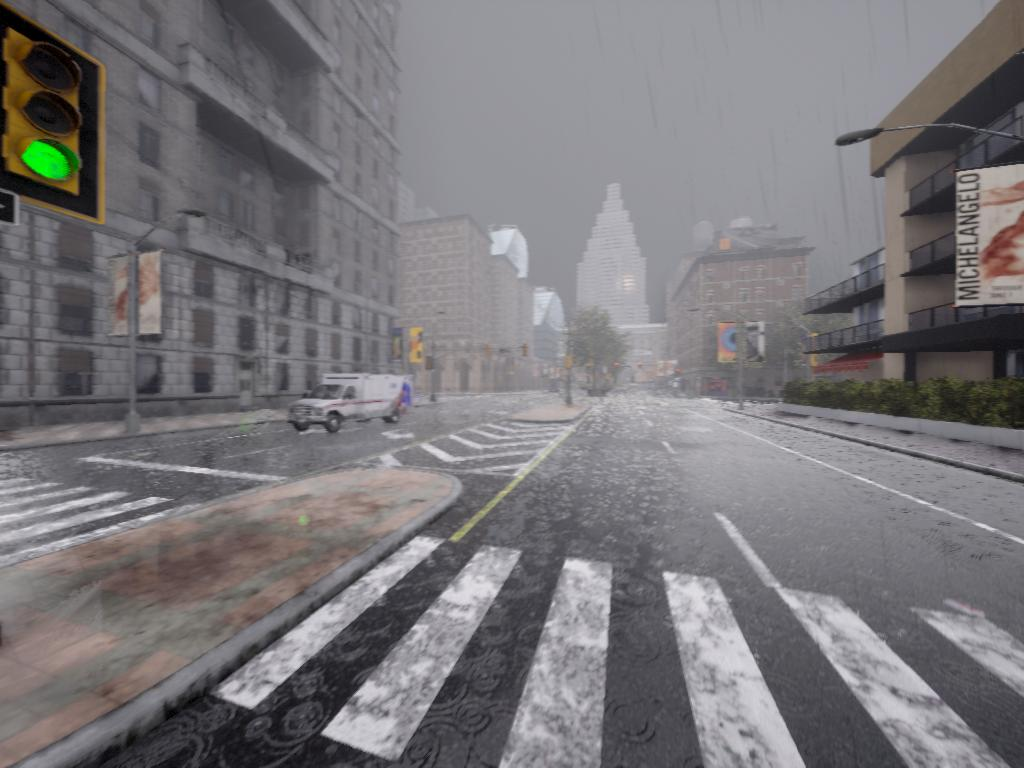traffic_light: (1, 20, 98, 203), (1, 191, 16, 225), (566, 354, 577, 371), (427, 356, 435, 373), (614, 361, 621, 376), (485, 342, 491, 359), (523, 343, 529, 359), (639, 361, 645, 377), (675, 365, 680, 379)
